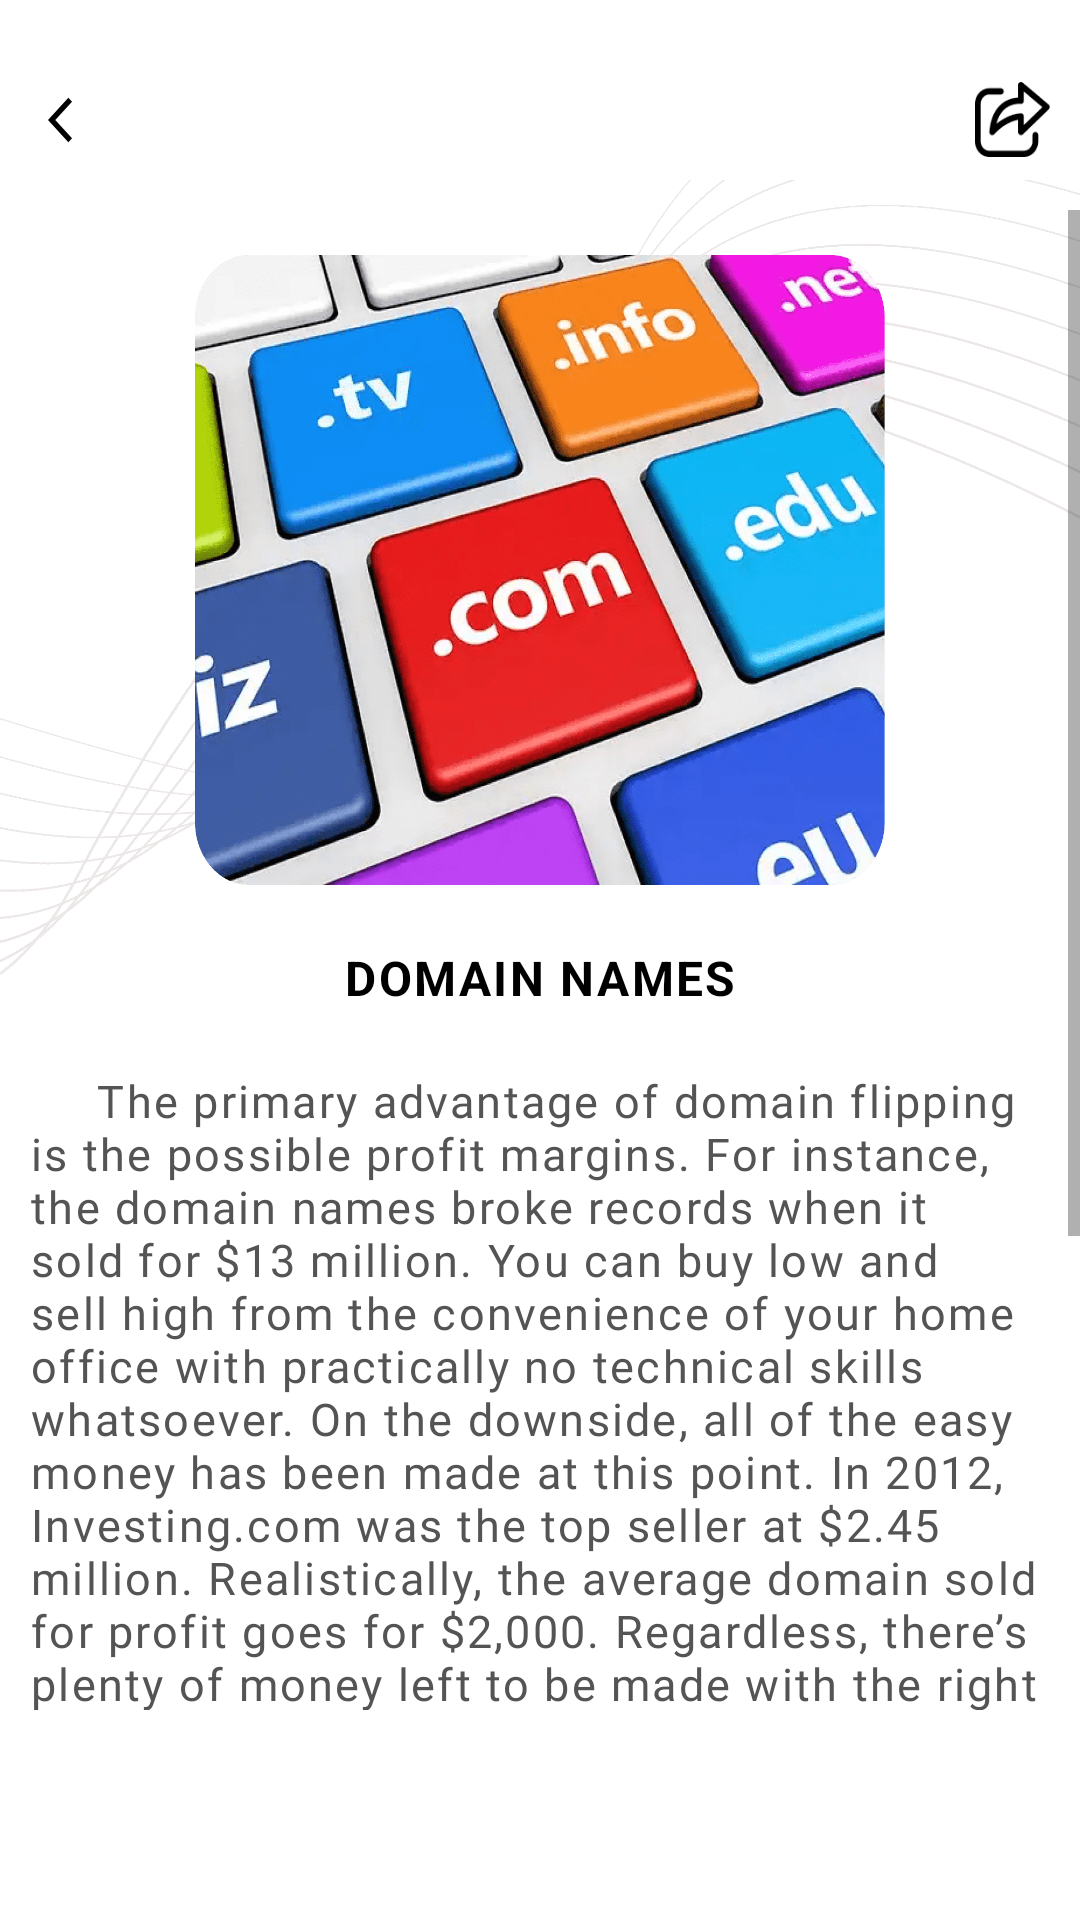

Where to tap for icons on this 1080*1920 app screen, as (x,y):
share: (1012,119)
